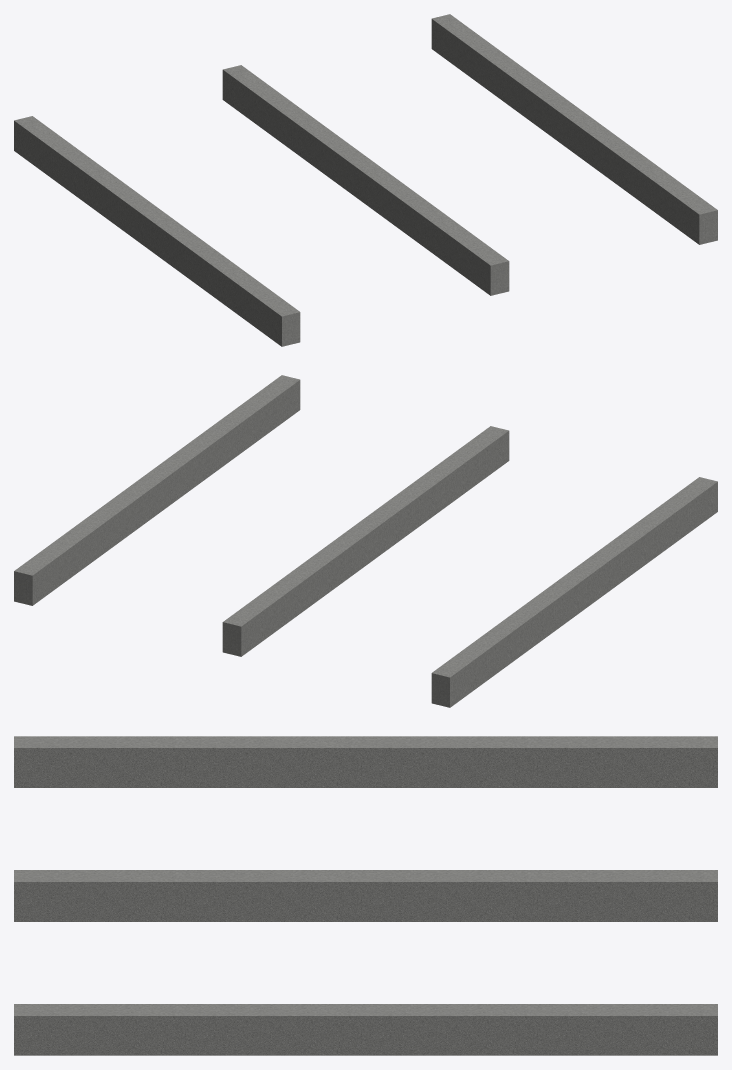
Rendered from estate_roof_flat_1b.glb.
3 renders of one model, top to bottom at view 1: azimuth 30°, elevation 25°; view 2: azimuth 150°, elevation 25°; view 3: azimuth 270°, elevation 25°, orthographic. The views are drawn at different scales.
Parts seen in each view (by area): view 1: Cube.001, Cube, Cube.002; view 2: Cube.001, Cube, Cube.002; view 3: Cube, Cube.001, Cube.002.
Part boxes in pixels (x1,y1,x2,y2): Cube.001: (222,65,509,295); Cube: (14,116,300,346); Cube.002: (431,14,717,244); Cube.001: (222,426,509,656); Cube: (431,477,717,707); Cube.002: (14,375,300,605); Cube: (14,736,717,787); Cube.001: (14,870,717,921); Cube.002: (14,1004,717,1055).
Bounding box in the file's own units: 3.76 × 0.25 × 4.
Materials: 1 (1 with a texture image).
